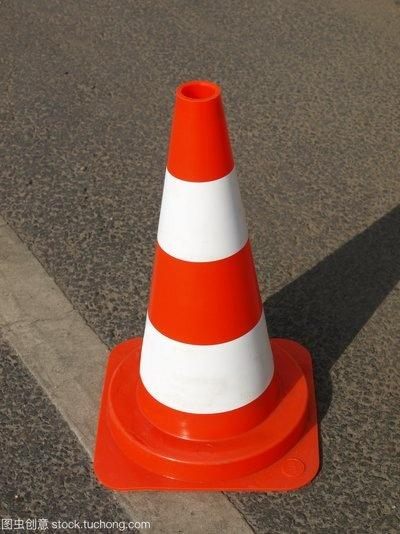cone_barrel: (118, 79, 290, 448)
